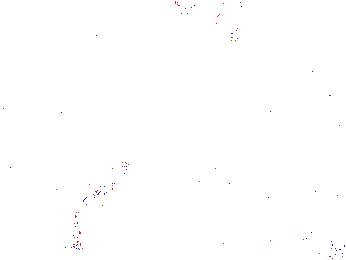glassfish: (70, 160, 130, 252), (193, 130, 266, 198)
red belly glassfish: (225, 25, 252, 45)
redtail glassfish: (174, 1, 253, 23)
